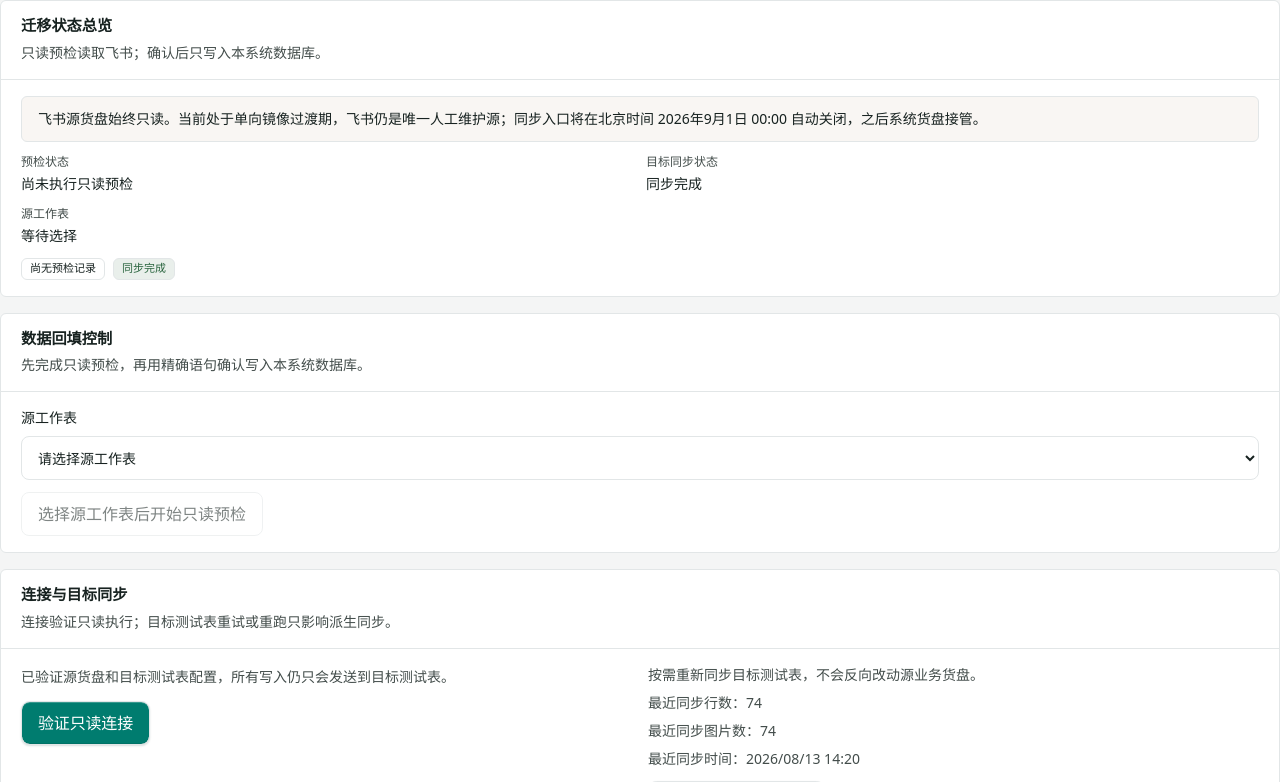
CargoMigrationPanel › shows immediate multi-sheet selection for super admins before preflight can start
This screenshot has width=1280, height=782.
Expected: the button "选择源工作表后开始只读预检" is disabled, [21,492,263,536]
Select "货盘 A" in the dropdown labelled "源工作表" at (640, 458), box [21,436,1259,480]
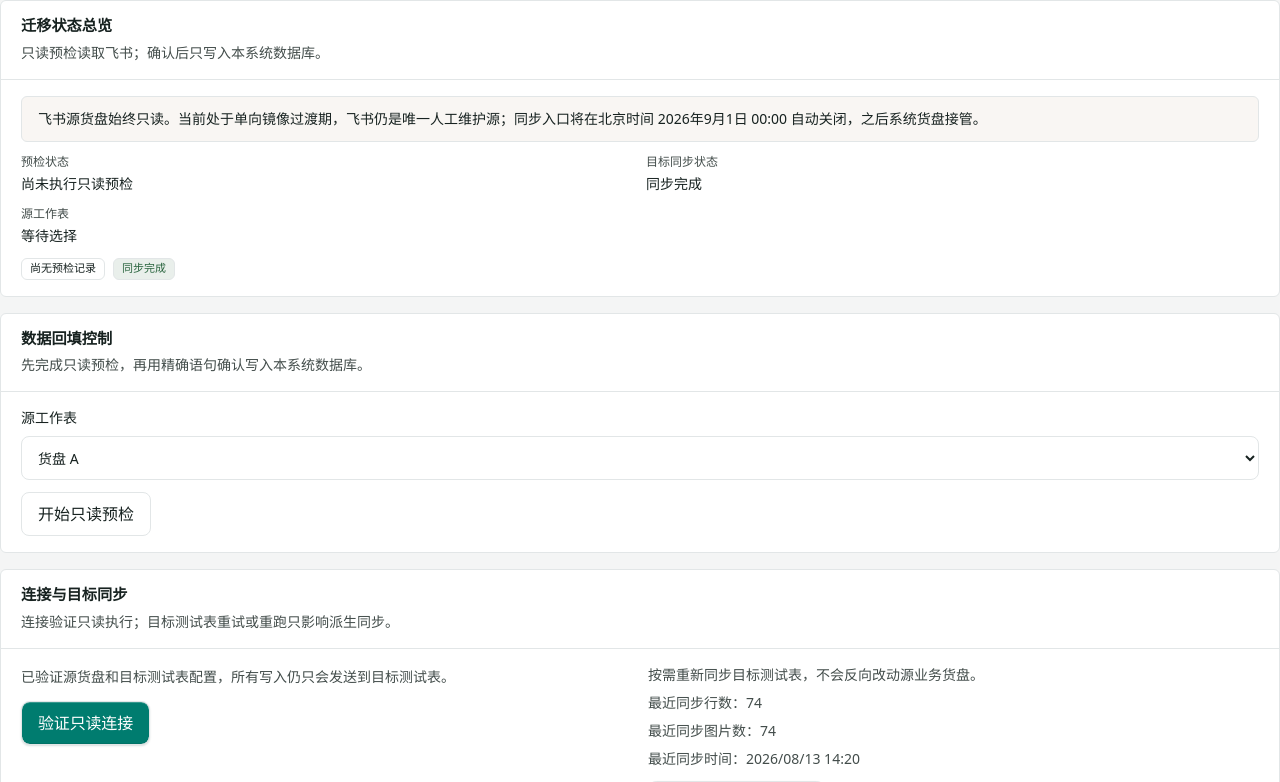
Expected: the button "开始只读预检" is enabled, [21,492,151,536]
